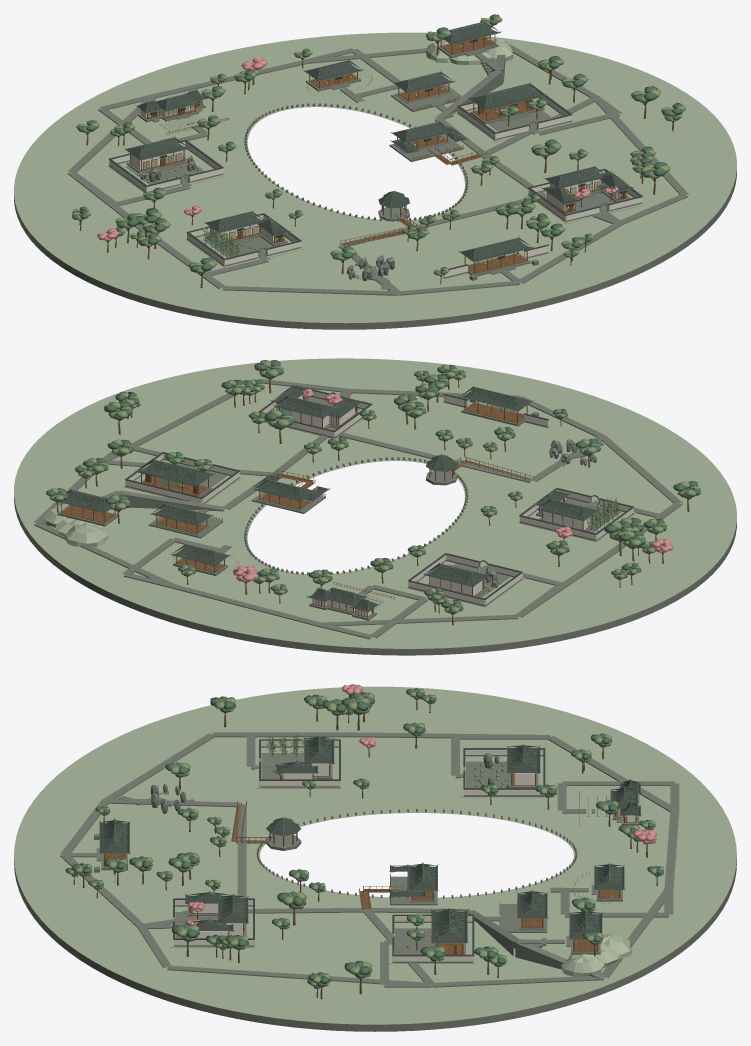
The model's file is overview.glb.
3 renders of one model, top to bottom at view 1: azimuth 30°, elevation 25°; view 2: azimuth 150°, elevation 25°; view 3: azimuth 270°, elevation 25°, orthographic. The views are drawn at different scales.
Visible parts, largest first — view 1: landscape_earth, landscape_stone, landscape_leaf, landscape_lightleaf, landscape_wood, yihongyuan_roof, qiushuangzhai_roof, hengwuyuan_stone, xiaoxiangguan_roof, hengwuyuan_plaster, xiaoxiangguan_stone, qiushuangzhai_stone (+26 smaller); view 2: landscape_earth, landscape_stone, landscape_leaf, landscape_lightleaf, hengwuyuan_plaster, landscape_wood, yihongyuan_roof, qiushuangzhai_roof, xiaoxiangguan_plaster, xiaoxiangguan_roof, hengwuyuan_roof, yihongyuan_plaster (+20 smaller); view 3: landscape_earth, landscape_stone, landscape_leaf, landscape_lightleaf, yihongyuan_roof, landscape_wood, qiushuangzhai_roof, xiaoxiangguan_roof, hengwuyuan_stone, hengwuyuan_roof, xiaoxiangguan_stone, ouxiangxie_roof (+23 smaller).
Boxes of the visible parts, left/top/right/bottom form: landscape_earth: left=14, top=32, right=736, bottom=323; landscape_stone: left=14, top=42, right=736, bottom=329; landscape_leaf: left=72, top=48, right=682, bottom=275; landscape_lightleaf: left=71, top=50, right=685, bottom=275; landscape_wood: left=79, top=58, right=674, bottom=288; yihongyuan_roof: left=528, top=166, right=642, bottom=215; qiushuangzhai_roof: left=457, top=83, right=572, bottom=133; hengwuyuan_stone: left=109, top=146, right=223, bottom=192; xiaoxiangguan_roof: left=186, top=211, right=301, bottom=259; hengwuyuan_plaster: left=109, top=141, right=223, bottom=191; xiaoxiangguan_stone: left=187, top=233, right=300, bottom=266; qiushuangzhai_stone: left=457, top=97, right=572, bottom=140; landscape_earth: left=14, top=358, right=736, bottom=648; landscape_stone: left=14, top=378, right=736, bottom=655; landscape_leaf: left=75, top=360, right=700, bottom=614; landscape_lightleaf: left=78, top=360, right=700, bottom=613; hengwuyuan_plaster: left=408, top=554, right=522, bottom=605; landscape_wood: left=85, top=378, right=689, bottom=625; yihongyuan_roof: left=258, top=385, right=372, bottom=431; qiushuangzhai_roof: left=125, top=452, right=239, bottom=498; xiaoxiangguan_plaster: left=519, top=489, right=633, bottom=539; xiaoxiangguan_roof: left=519, top=488, right=633, bottom=534; hengwuyuan_roof: left=408, top=553, right=522, bottom=599; yihongyuan_plaster: left=258, top=391, right=371, bottom=436; landscape_earth: left=14, top=686, right=736, bottom=1024; landscape_stone: left=14, top=732, right=736, bottom=1031; landscape_leaf: left=65, top=688, right=663, bottom=988; landscape_lightleaf: left=68, top=689, right=663, bottom=988; yihongyuan_roof: left=173, top=892, right=254, bottom=939; landscape_wood: left=73, top=700, right=657, bottom=999; qiushuangzhai_roof: left=392, top=909, right=474, bottom=956; xiaoxiangguan_roof: left=259, top=737, right=340, bottom=780; hengwuyuan_stone: left=455, top=753, right=544, bottom=796; hengwuyuan_roof: left=463, top=745, right=545, bottom=789; xiaoxiangguan_stone: left=251, top=746, right=340, bottom=787; ouxiangxie_roof: left=390, top=864, right=437, bottom=896.
Size of the model in its own units: 270 by 20.58 by 244.
Materials: 14 (2 with a texture image).
